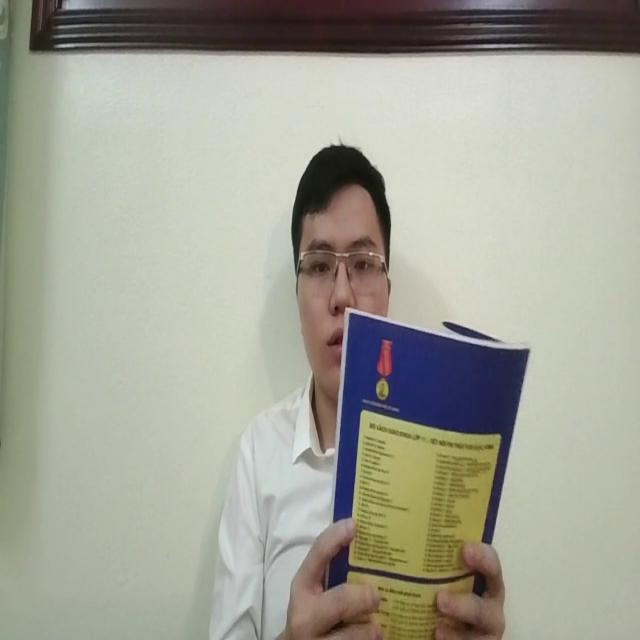book: (327, 301, 531, 640)
student: (217, 121, 504, 640)
